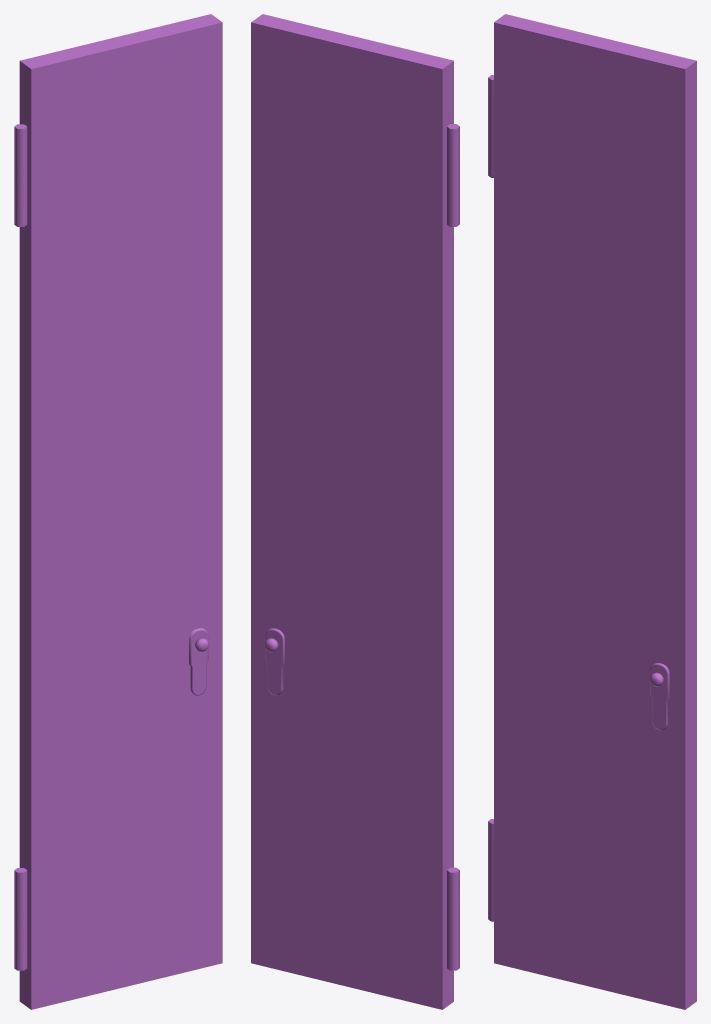
Rendered from Villa2_Door_A.fbx.
The picture shows the model from 3 angles, left to right: view 1: azimuth 30°, elevation 25°; view 2: azimuth 150°, elevation 25°; view 3: azimuth 330°, elevation 25°; orthographic projection.
Visible parts, largest first — view 1: Villa2_Door_A; view 2: Villa2_Door_A; view 3: Villa2_Door_A.
Part boxes in pixels (bbox=[...]): Villa2_Door_A: bbox=[14, 14, 222, 1009]; Villa2_Door_A: bbox=[251, 14, 459, 1009]; Villa2_Door_A: bbox=[488, 14, 696, 1009].
Size of the model in its own units: 1 by 4.48 by 0.2144.
